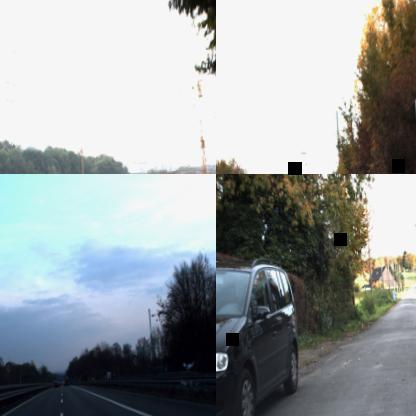speed limit 120: (131, 354, 139, 367), (4, 362, 12, 374)
